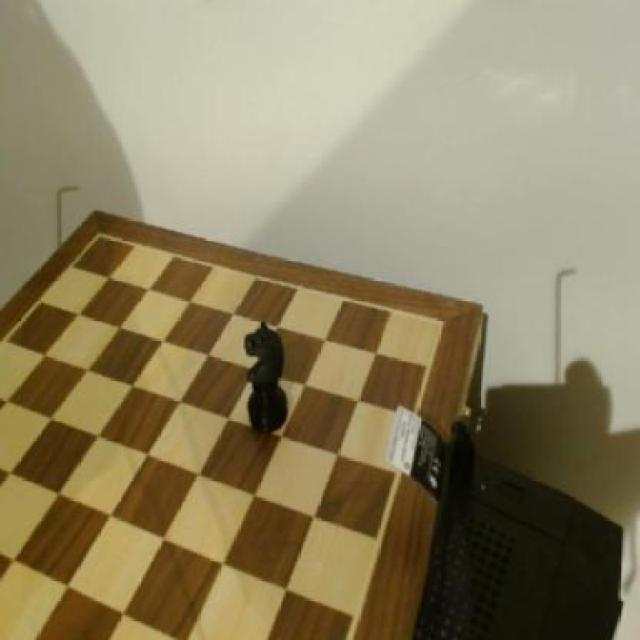black-king: (242, 314, 296, 433)
